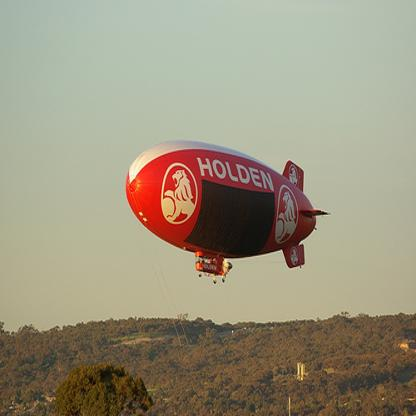Airship: (123, 139, 333, 286)
